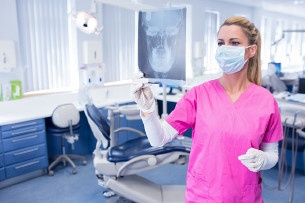Mask: (213, 34, 252, 71)
